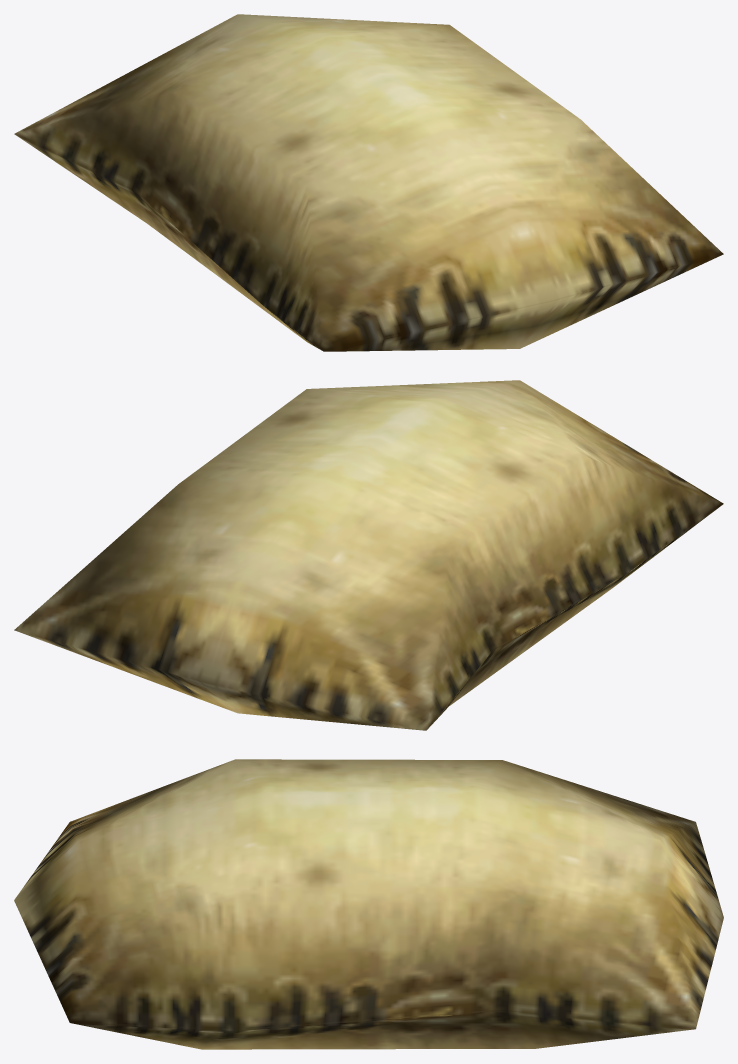
The model's file is sack01.obj.
3 views of the same model, one above another, from view 1: azimuth 30°, elevation 25°; view 2: azimuth 150°, elevation 25°; view 3: azimuth 270°, elevation 25° (orthographic). The views are drawn at different scales.
Visible parts, largest first — view 1: sack01; view 2: sack01; view 3: sack01.
Part boxes in pixels (box(x1,y1,x2,y2)): sack01: box(14, 14, 723, 351); sack01: box(14, 380, 723, 730); sack01: box(14, 759, 723, 1049).
Bounding box in the file's own units: 0.6706 × 0.2678 × 0.9703.
1 material, 1 textured.
